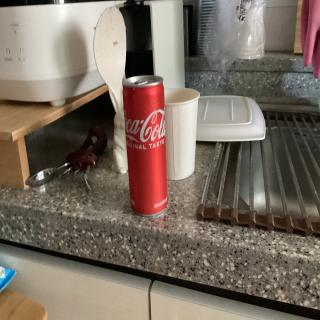cocacola: (123, 70, 170, 216)
